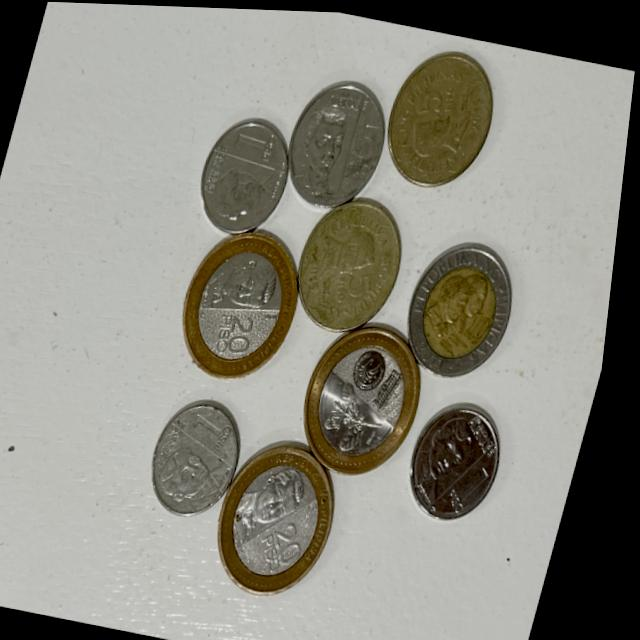10_Old_Front: (458, 295, 502, 354)
1_New_Front: (451, 444, 505, 517), (190, 403, 247, 455), (229, 117, 285, 168)
20_New_Back: (318, 376, 405, 457)
20_New_Front: (264, 517, 324, 571), (217, 302, 267, 358)
5_New_Front: (342, 107, 388, 176)
5_Old_Front: (402, 62, 464, 134), (329, 250, 390, 318)
